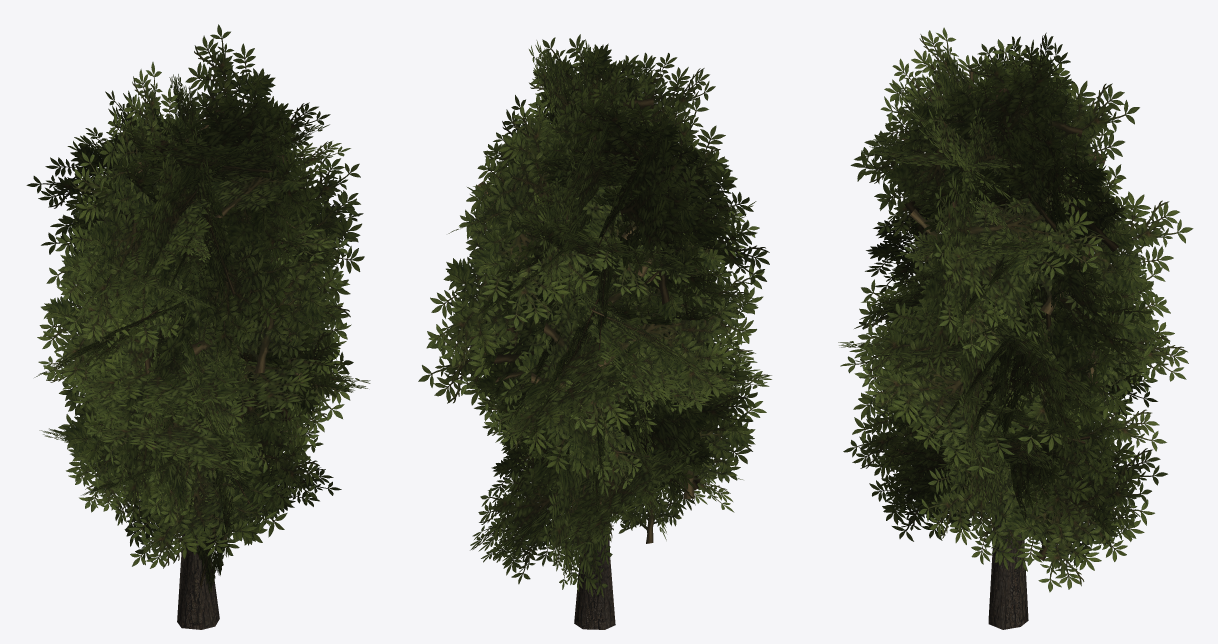
Rendered from hightree1.gltf.
3 views of the same model, side by side, from view 1: azimuth 30°, elevation 25°; view 2: azimuth 150°, elevation 25°; view 3: azimuth 270°, elevation 25° (orthographic). The views are drawn at different scales.
Visible parts, largest first — view 1: leaves, bark; view 2: leaves, bark; view 3: leaves, bark.
Boxes of the visible parts, left/top/right/bottom form: leaves: left=26, top=24, right=370, bottom=593; bark: left=177, top=255, right=219, bottom=629; leaves: left=418, top=34, right=771, bottom=597; bark: left=574, top=469, right=615, bottom=629; leaves: left=838, top=27, right=1193, bottom=592; bark: left=988, top=292, right=1028, bottom=629.
Bounding box in the file's own units: 274 × 469 × 274.
Materials: 2 (2 with a texture image).
